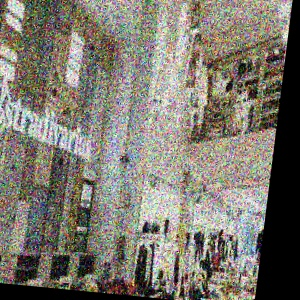stradivarius: (94, 34, 117, 141)
